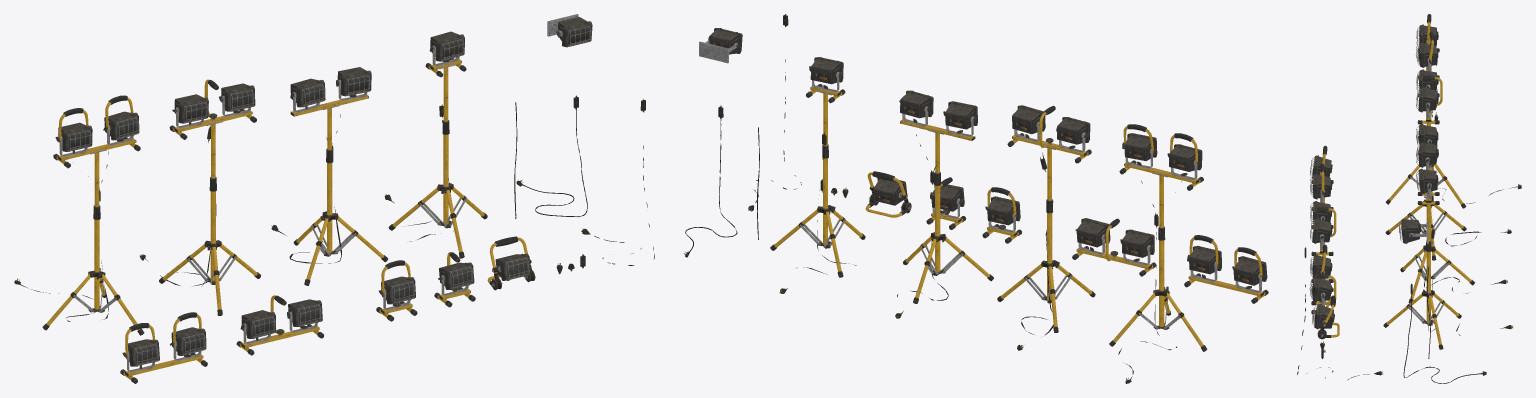
The model's file is flood_lights.glb.
The picture shows the model from 3 angles, left to right: view 1: azimuth 30°, elevation 25°; view 2: azimuth 150°, elevation 25°; view 3: azimuth 270°, elevation 25°; orthographic projection. The views are drawn at different scales.
Parts seen in each view (by area): view 1: flood_lights_standing_single_stand, flood_lights_standing_double_c_stand, flood_lights_standing_double_b_stand, flood_lights_standing_double_a_stand, flood_lights_wall_light, flood_lights_standing_double_b_light_01, flood_lights_standing_double_c_light_02, flood_lights_standing_single_light, flood_lights_standing_double_a_bar, flood_lights_standing_double_b_light_02, flood_lights_floor_double_b_light_01, flood_lights_standing_double_c_light_01 (+12 smaller); view 2: flood_lights_standing_double_c_stand, flood_lights_standing_double_b_stand, flood_lights_standing_single_stand, flood_lights_standing_double_a_stand, flood_lights_standing_double_c_light_01, flood_lights_floor_double_b_light_01, flood_lights_standing_double_c_light_02, flood_lights_standing_single_light, flood_lights_standing_double_b_light_01, flood_lights_floor_double_a_light_01, flood_lights_floor_double_b_light_02, flood_lights_floor_single_a_light (+13 smaller); view 3: flood_lights_standing_single_stand, flood_lights_standing_double_c_stand, flood_lights_standing_double_b_stand, flood_lights_standing_double_b_light_02, flood_lights_standing_double_c_light_02, flood_lights_floor_single_b_light, flood_lights_standing_single_light, flood_lights_standing_double_a_stand, flood_lights_floor_double_b_light_02, flood_lights_wall_light, flood_lights_standing_double_a_light_02, flood_lights_floor_single_light_c (+10 smaller).
Boxes of the visible parts, left/top/right/bottom form: flood_lights_standing_single_stand: left=388, top=120, right=487, bottom=258; flood_lights_standing_double_c_stand: left=293, top=148, right=388, bottom=285; flood_lights_standing_double_b_stand: left=159, top=177, right=260, bottom=315; flood_lights_standing_double_a_stand: left=42, top=205, right=144, bottom=335; flood_lights_wall_light: left=556, top=17, right=592, bottom=47; flood_lights_standing_double_b_light_01: left=172, top=94, right=208, bottom=123; flood_lights_standing_double_c_light_02: left=336, top=67, right=371, bottom=96; flood_lights_standing_single_light: left=429, top=31, right=464, bottom=61; flood_lights_standing_double_a_bar: left=53, top=137, right=140, bottom=206; flood_lights_standing_double_b_light_02: left=219, top=83, right=255, bottom=111; flood_lights_floor_double_b_light_01: left=240, top=310, right=275, bottom=338; flood_lights_standing_double_c_light_01: left=290, top=78, right=325, bottom=107; flood_lights_standing_double_c_stand: left=903, top=172, right=993, bottom=303; flood_lights_standing_double_b_stand: left=997, top=199, right=1095, bottom=332; flood_lights_standing_single_stand: left=770, top=144, right=865, bottom=277; flood_lights_standing_double_a_stand: left=1109, top=226, right=1207, bottom=351; flood_lights_standing_double_c_light_01: left=943, top=101, right=977, bottom=129; flood_lights_floor_double_b_light_01: left=1120, top=229, right=1154, bottom=257; flood_lights_standing_double_c_light_02: left=899, top=90, right=933, bottom=118; flood_lights_standing_single_light: left=809, top=57, right=843, bottom=84; flood_lights_standing_double_b_light_01: left=1056, top=117, right=1090, bottom=144; flood_lights_floor_double_a_light_01: left=1233, top=256, right=1267, bottom=285; flood_lights_floor_double_b_light_02: left=1075, top=218, right=1110, bottom=247; flood_lights_floor_single_a_light: left=987, top=196, right=1020, bottom=225; flood_lights_standing_single_stand: left=1383, top=240, right=1461, bottom=349; flood_lights_standing_double_c_stand: left=1400, top=204, right=1474, bottom=303; flood_lights_standing_double_b_stand: left=1385, top=199, right=1466, bottom=260; flood_lights_standing_double_b_light_02: left=1416, top=87, right=1438, bottom=112; flood_lights_standing_double_c_light_02: left=1416, top=142, right=1438, bottom=167; flood_lights_floor_single_b_light: left=1309, top=277, right=1332, bottom=302; flood_lights_standing_single_light: left=1416, top=168, right=1438, bottom=193; flood_lights_standing_double_a_stand: left=1386, top=111, right=1466, bottom=208; flood_lights_floor_double_b_light_02: left=1310, top=218, right=1332, bottom=243; flood_lights_wall_light: left=1399, top=218, right=1421, bottom=243; flood_lights_standing_double_a_light_02: left=1415, top=42, right=1438, bottom=67; flood_lights_floor_single_light_c: left=1312, top=304, right=1334, bottom=329.
Size of the model in its own units: 4.6 by 1.81 by 2.11.
2 materials, 2 textured.
